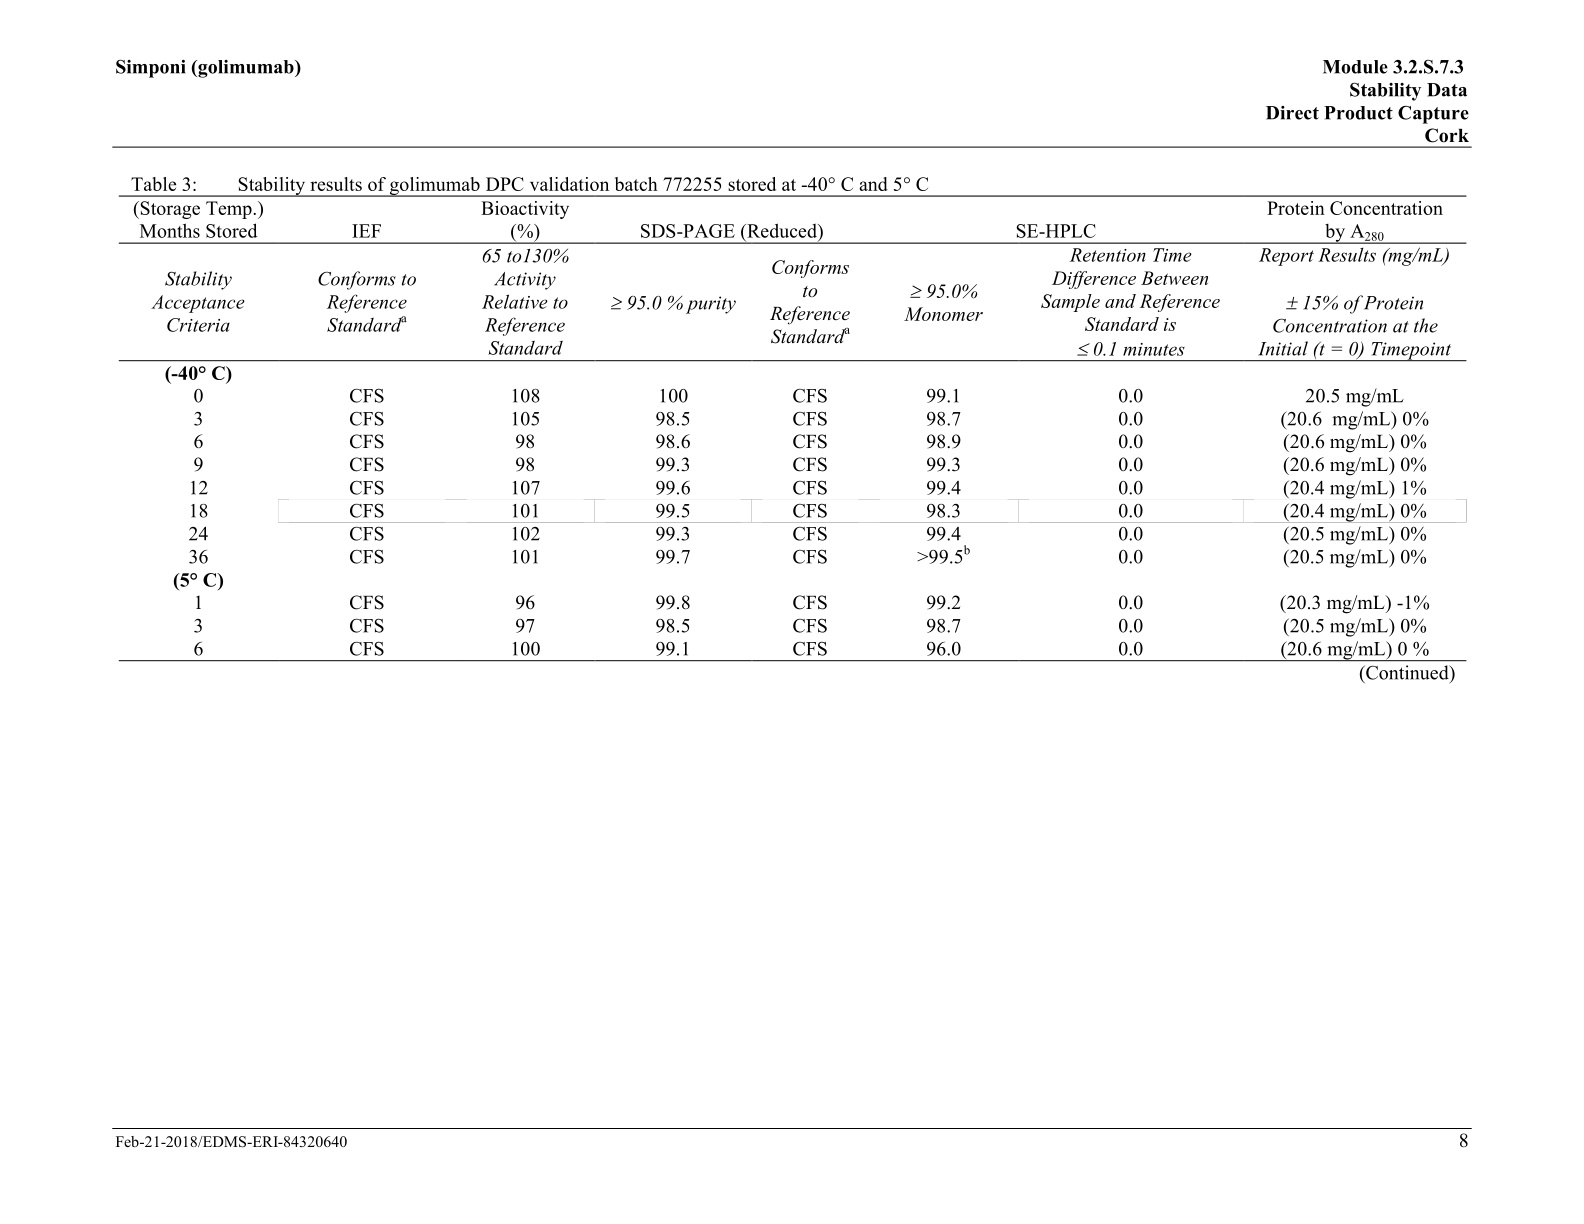partial_lined_merged_cells: (118, 194, 1468, 663)
